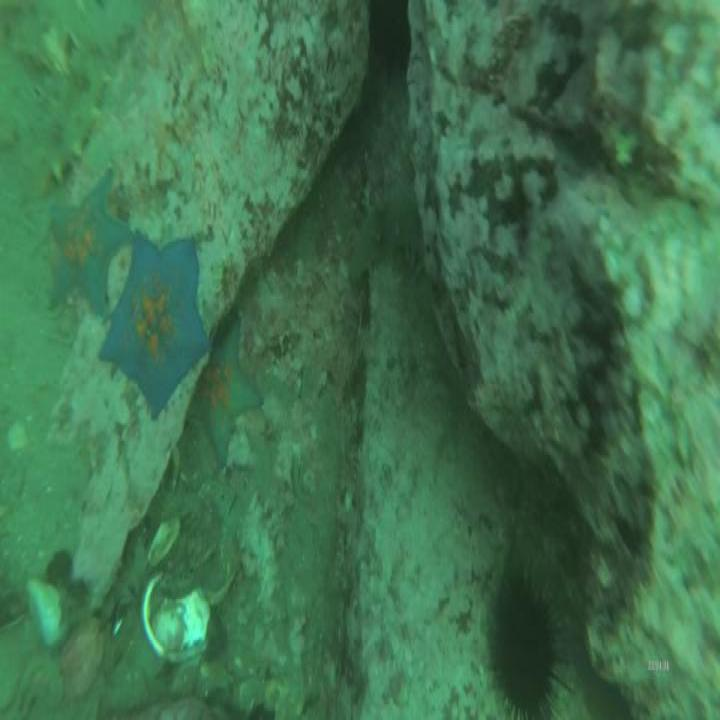echinus: (489, 567, 561, 717)
holothurian: (41, 62, 111, 180), (349, 204, 422, 278)
starfish: (98, 236, 208, 420), (40, 185, 128, 316), (201, 315, 264, 457)
